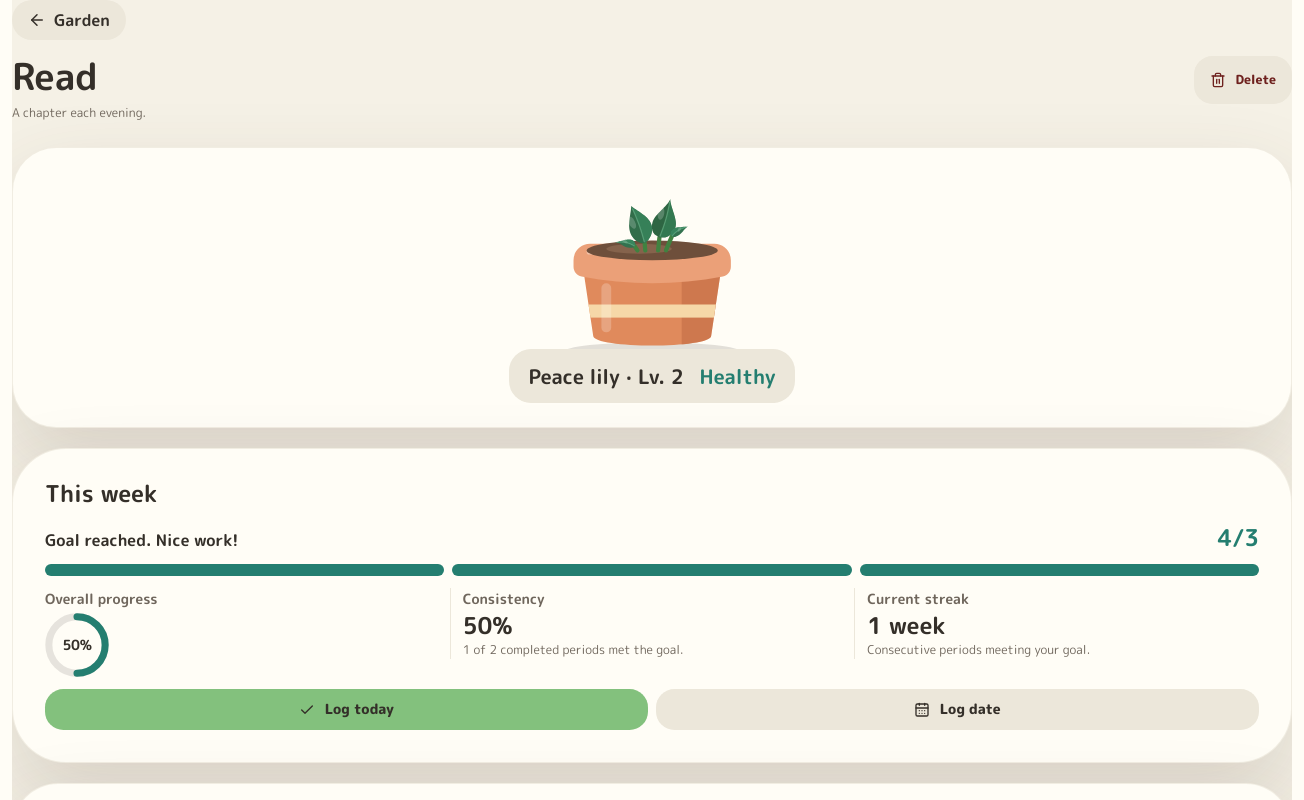
it: the cards at the top › says so when a log fails
This screenshot has width=1304, height=800.
Expected: the heading "Read" is shown, top-left (12, 50), bottom-right (98, 102)
Click the button "Log today": (346, 710) top-left (45, 689), bottom-right (648, 730)
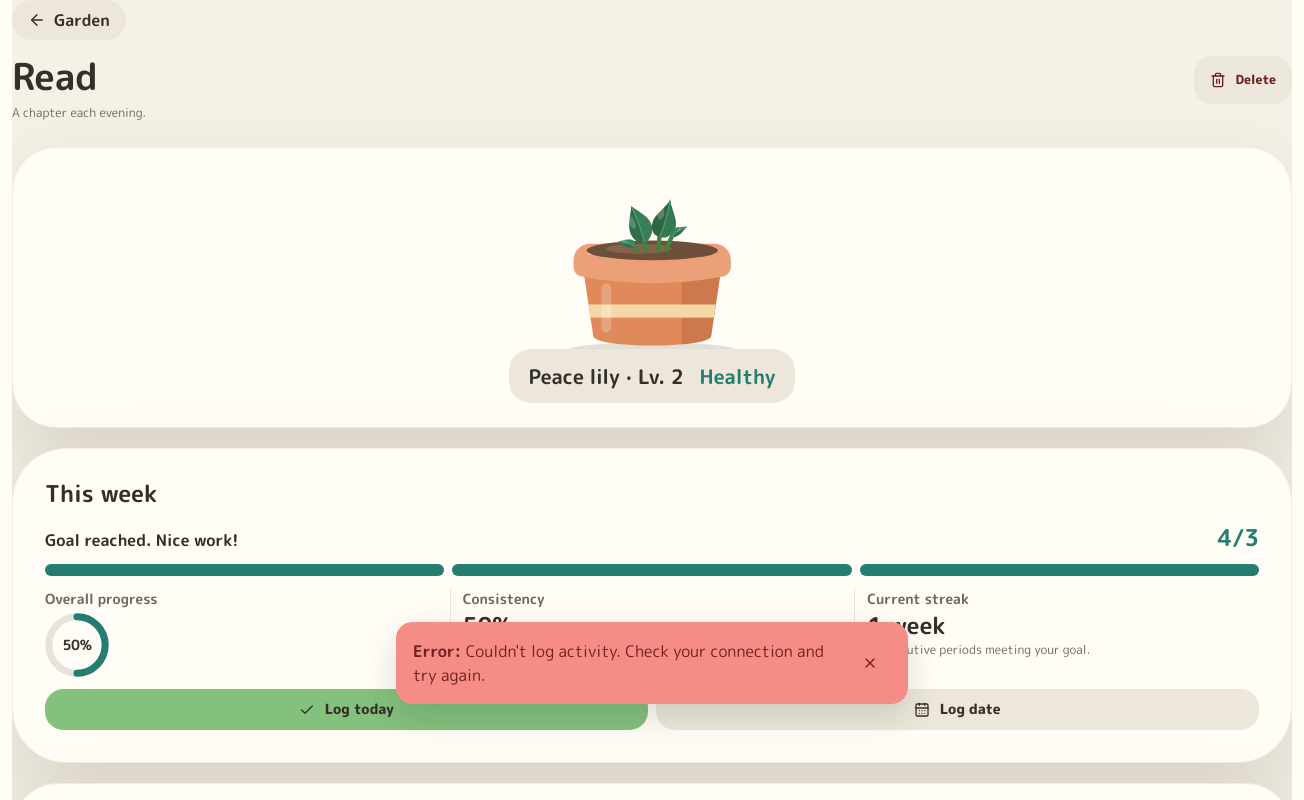
Expected: the text "Error: Couldn't log activity. Check your connection and try again." is shown, top-left (413, 639), bottom-right (841, 687)
